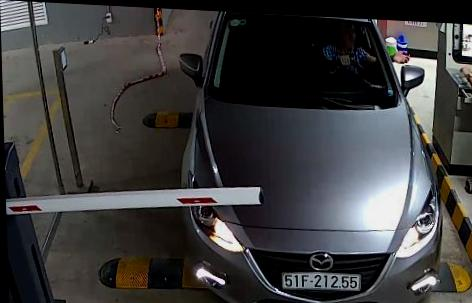License_Plate: (279, 269, 364, 295)
